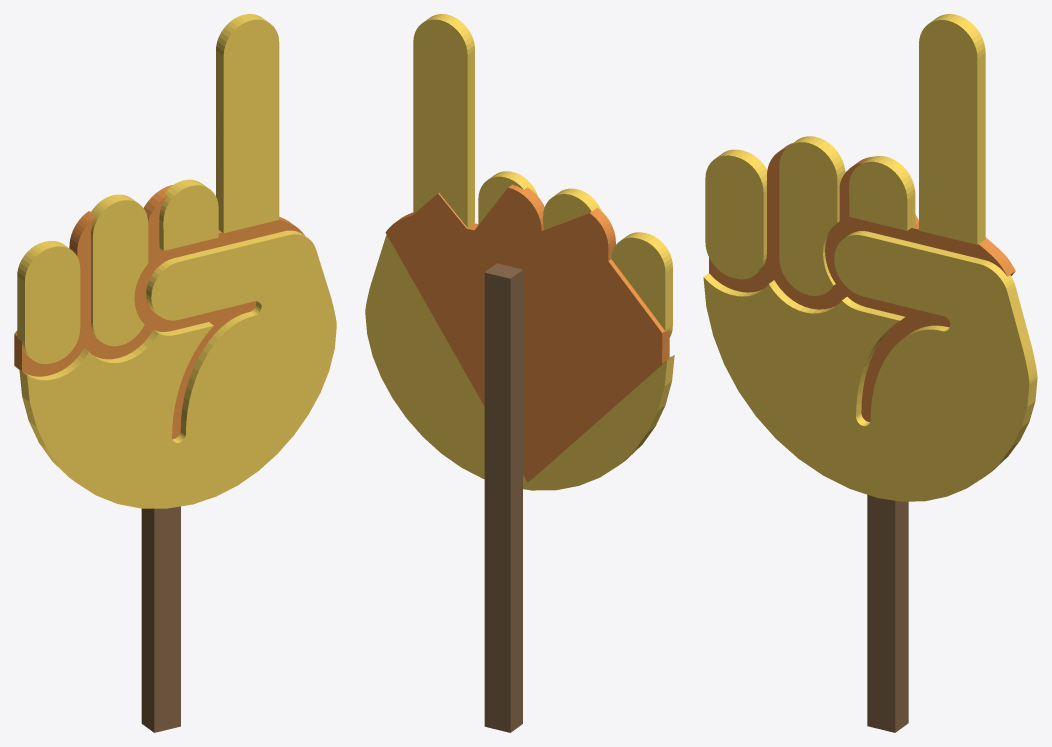
The model's file is doigt.glb.
3 views of the same model, side by side, from view 1: azimuth 30°, elevation 25°; view 2: azimuth 150°, elevation 25°; view 3: azimuth 330°, elevation 25° (orthographic). The views are drawn at different scales.
Bounding box in the file's own units: 0.6961 × 1.5 × 0.105.
